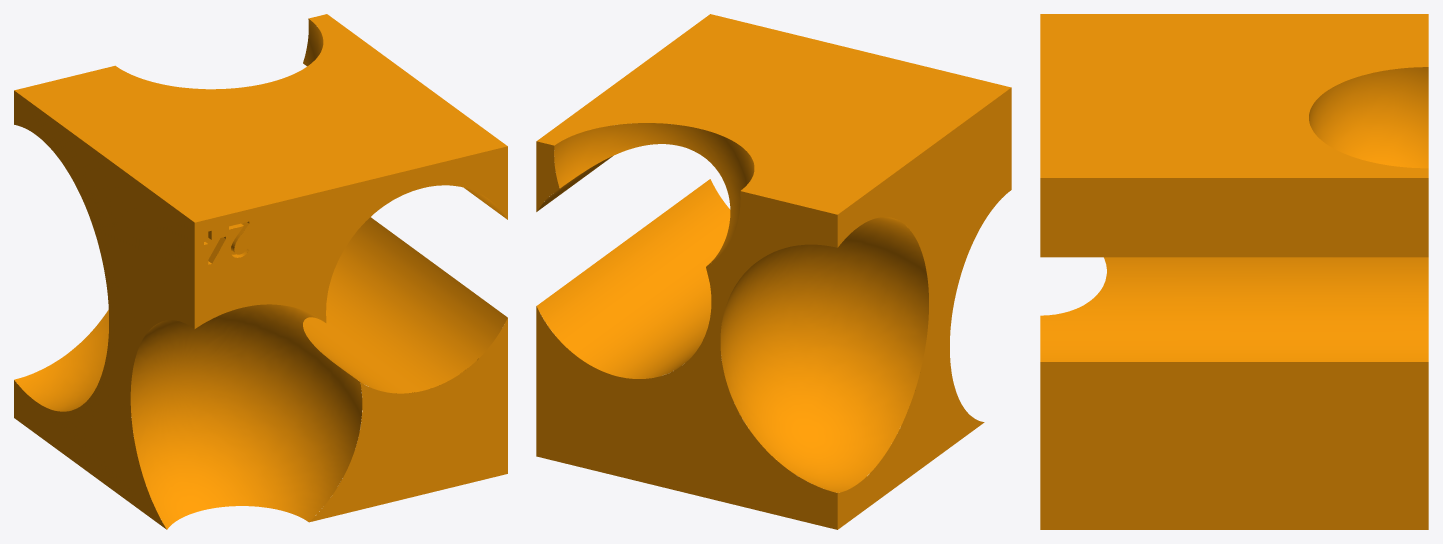
The picture shows the model from 3 angles, left to right: view 1: azimuth 30°, elevation 25°; view 2: azimuth 150°, elevation 25°; view 3: azimuth 270°, elevation 25°; orthographic projection. The views are drawn at different scales.
Visible parts, largest first — view 1: Layer 04; view 2: Layer 04; view 3: Layer 04.
Part boxes in pixels (x1,y1,x2,y2): Layer 04: [14, 14, 507, 529]; Layer 04: [536, 14, 1011, 529]; Layer 04: [1040, 14, 1428, 529].
Size of the model in its own units: 0.042 by 0.042 by 0.042.
